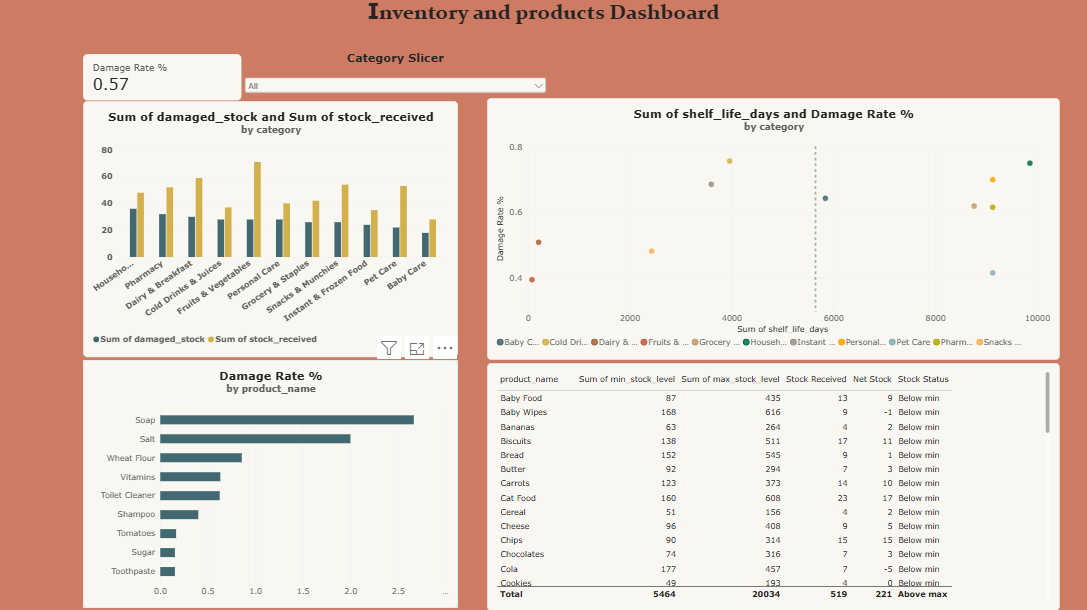

The dashboard page shown, as its layout file describes it:
{"tool":"powerbi","page":{"name":"Inventory and products","canvas":[1920,1080],"ordinal":2},"visuals":[{"type":"cardVisual","fields":{"Data":["Date.Damage Rate %"]},"box":[149.6,100.3,279.8,82.7],"z":0},{"type":"clusteredColumnChart","fields":{"Y":["Sum(blinkit_inventory.damaged_stock)","Sum(blinkit_inventory.stock_received)"],"Category":["blinkit_products.category"]},"box":[149.6,183,659.9,450.5],"z":1},{"type":"clusteredBarChart","fields":{"Y":["Date.Damage Rate %"],"Category":["blinkit_products.product_name"]},"box":[149.6,638.8,659.9,436.4],"z":2},{"type":"scatterChart","fields":{"X":["Sum(blinkit_products.shelf_life_days)"],"Y":["Date.Damage Rate %"],"Series":["blinkit_products.category"]},"box":[860.6,177.7,1008.4,461.1],"z":3},{"type":"tableEx","fields":{"Values":["blinkit_products.product_name","Sum(blinkit_products.min_stock_level)","Sum(blinkit_products.max_stock_level)","Date.Stock Received","Date.Net Stock","Date.Stock Status"]},"box":[860.6,644.1,1008.4,436.4],"z":4},{"type":"slicer","title":"Category Slicer","fields":{"Values":["blinkit_products.category"]},"box":[429.4,95,540.3,82.7],"z":5},{"type":"textbox","box":[0,0,1920,100.3],"z":6}]}

Visuals, with their boxes in screenshot pixels (x1, y1, x2, y2), scaled from the page's 1920x1080 canvas onto the 1087x610 screenshot:
cardVisual - Date.Damage Rate %: pyautogui.locateOnScreen(85, 57, 243, 103)
clusteredColumnChart - Sum(blinkit_inventory.damaged_stock) x Sum(blinkit_inventory.stock_received): pyautogui.locateOnScreen(85, 103, 458, 358)
clusteredBarChart - Date.Damage Rate % x blinkit_products.product_name: pyautogui.locateOnScreen(85, 361, 458, 607)
scatterChart - Sum(blinkit_products.shelf_life_days) x Date.Damage Rate %: pyautogui.locateOnScreen(487, 100, 1058, 361)
tableEx - blinkit_products.product_name x Sum(blinkit_products.min_stock_level): pyautogui.locateOnScreen(487, 364, 1058, 609)
"Category Slicer" slicer: pyautogui.locateOnScreen(243, 54, 549, 100)
textbox: pyautogui.locateOnScreen(0, 0, 1086, 57)
